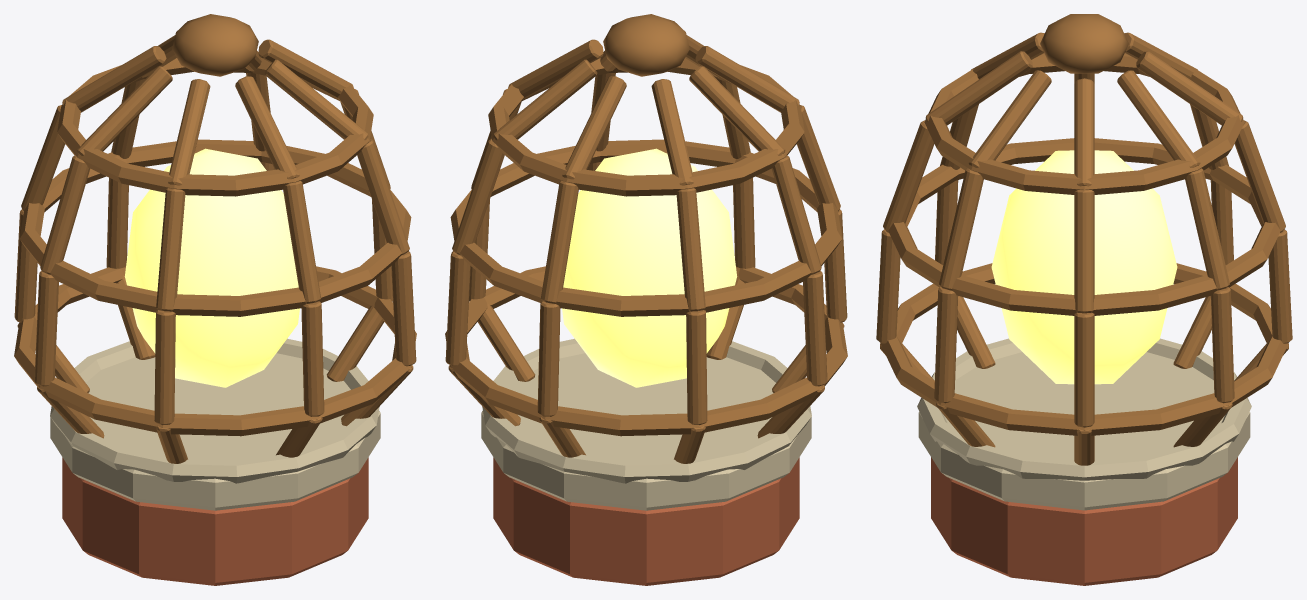
File: WickerGardenLantern.glb
The picture shows the model from 3 angles, left to right: view 1: azimuth 30°, elevation 25°; view 2: azimuth 150°, elevation 25°; view 3: azimuth 270°, elevation 25°; orthographic projection.
Visible parts, largest first — view 1: WickerGardenLantern_Wicker, WickerGardenLantern_LimestoneBase, WickerGardenLantern_Glow, WickerGardenLantern_TerracottaBase; view 2: WickerGardenLantern_Wicker, WickerGardenLantern_LimestoneBase, WickerGardenLantern_Glow, WickerGardenLantern_TerracottaBase; view 3: WickerGardenLantern_Wicker, WickerGardenLantern_LimestoneBase, WickerGardenLantern_Glow, WickerGardenLantern_TerracottaBase.
Boxes of the visible parts, x1,y1,x2,y2 form: WickerGardenLantern_Wicker: [14, 14, 416, 463]; WickerGardenLantern_LimestoneBase: [50, 338, 380, 510]; WickerGardenLantern_Glow: [124, 148, 299, 387]; WickerGardenLantern_TerracottaBase: [62, 457, 368, 585]; WickerGardenLantern_Wicker: [445, 14, 847, 463]; WickerGardenLantern_LimestoneBase: [481, 338, 811, 510]; WickerGardenLantern_Glow: [562, 148, 737, 387]; WickerGardenLantern_TerracottaBase: [493, 457, 799, 585]; WickerGardenLantern_Wicker: [876, 14, 1292, 465]; WickerGardenLantern_LimestoneBase: [917, 338, 1251, 510]; WickerGardenLantern_Glow: [991, 150, 1177, 384]; WickerGardenLantern_TerracottaBase: [931, 457, 1237, 585].
Bounding box in the file's own units: 0.5146 × 0.69 × 0.5146.
